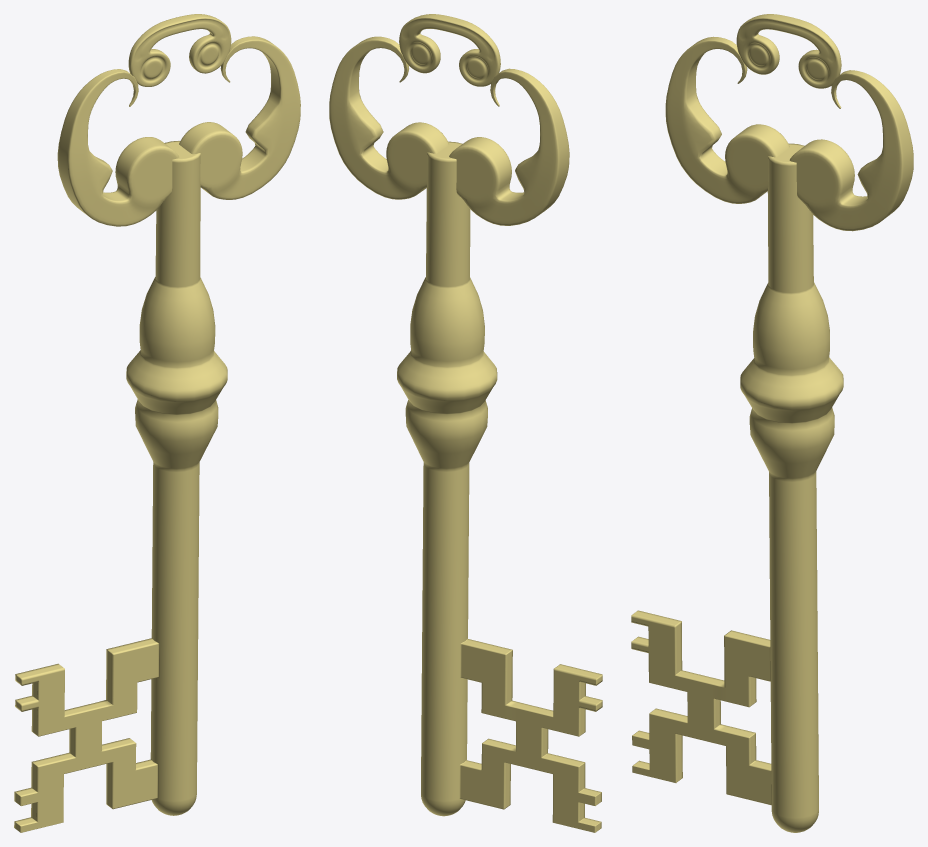
Rendered from FancyGoldKey.fbx.
3 renders of one model, left to right at view 1: azimuth 30°, elevation 25°; view 2: azimuth 150°, elevation 25°; view 3: azimuth 330°, elevation 25°, orthographic. The views are drawn at different scales.
Visible parts, largest first — view 1: gold_key; view 2: gold_key; view 3: gold_key.
Part boxes in pixels (<box>): gold_key: <box>14,14,300,832</box>; gold_key: <box>329,14,602,832</box>; gold_key: <box>631,14,913,832</box>.
Size of the model in its own units: 0.4344 by 1.22 by 0.1398.
